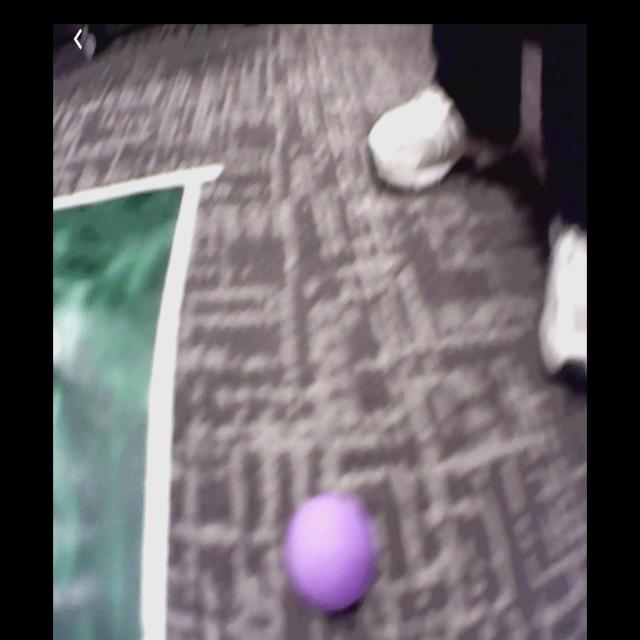ball: (289, 494, 376, 613)
